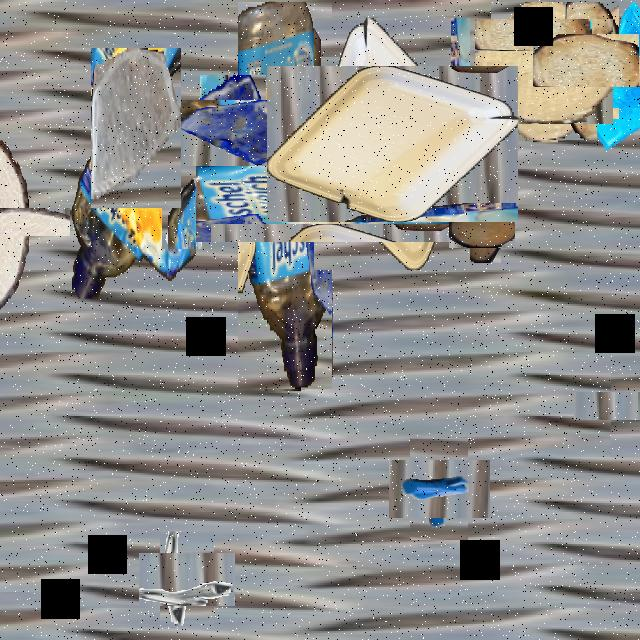glass: (91, 48, 181, 208), (561, 29, 640, 135), (187, 88, 279, 179)
metal: (261, 174, 321, 281), (399, 449, 479, 529), (150, 542, 224, 617), (592, 372, 640, 438), (162, 178, 202, 249)
plastic: (165, 75, 405, 316), (290, 42, 494, 246), (70, 137, 196, 297)
wood: (483, 10, 605, 132), (0, 167, 68, 276), (549, 18, 635, 103), (456, 203, 508, 256)
